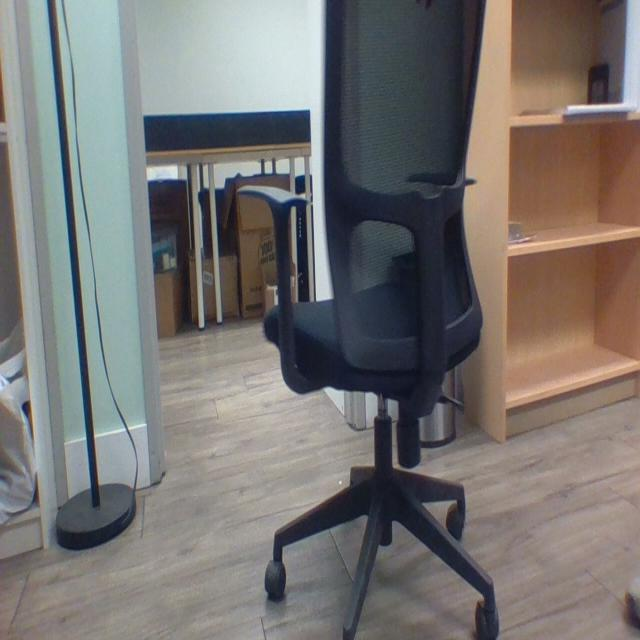chair: (237, 1, 508, 640)
